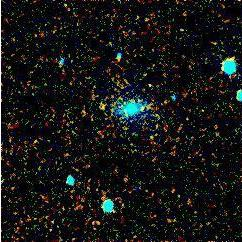star: (128, 94, 158, 124)
